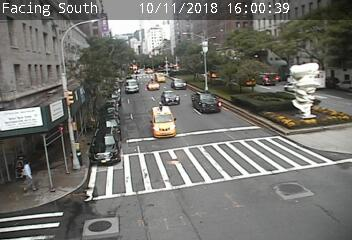car: (152, 106, 175, 138), (192, 93, 220, 112), (162, 91, 179, 105), (172, 79, 185, 89), (146, 81, 159, 90), (154, 73, 165, 83)
